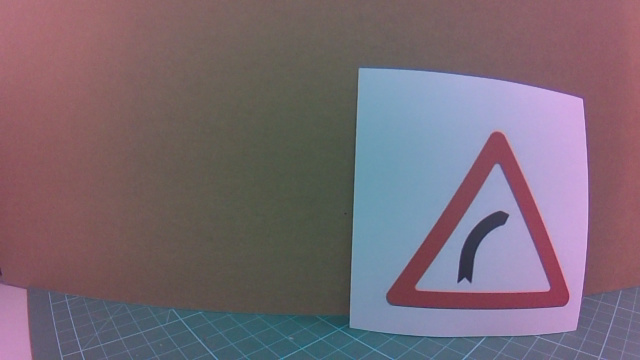right: (380, 140, 558, 316)
